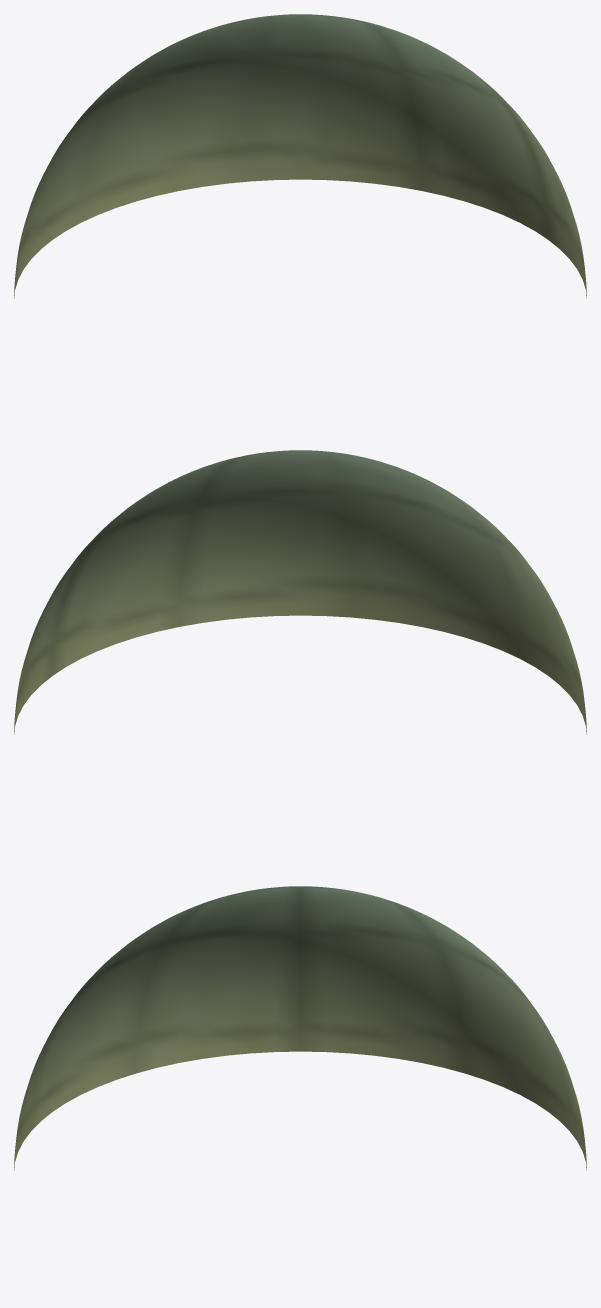
The model's file is turtle_shell.glb.
The picture shows the model from 3 angles, top to bottom: view 1: azimuth 30°, elevation 25°; view 2: azimuth 150°, elevation 25°; view 3: azimuth 270°, elevation 25°; orthographic projection.
Visible parts, largest first — view 1: world; view 2: world; view 3: world.
Part boxes in pixels (x1,y1,x2,y2): world: [14, 14, 586, 298]; world: [14, 450, 586, 734]; world: [14, 886, 586, 1170].
Size of the model in its own units: 0.64 by 0.32 by 0.64.
